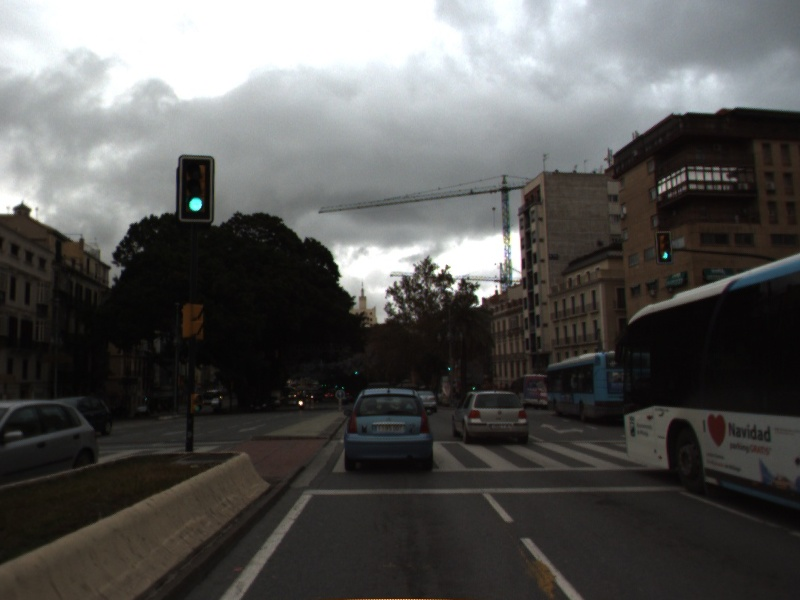STRAIGHT_RIGHT: (538, 420, 586, 437)
